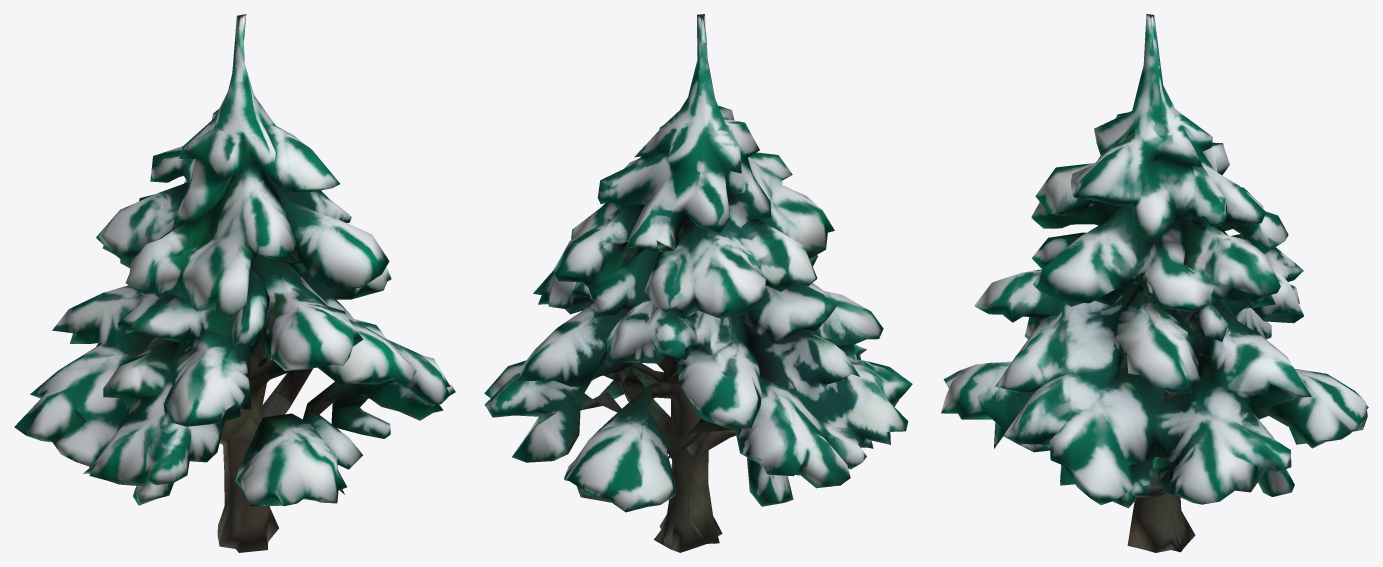
The model's file is snowpine_russia.glb.
The picture shows the model from 3 angles, left to right: view 1: azimuth 30°, elevation 25°; view 2: azimuth 150°, elevation 25°; view 3: azimuth 270°, elevation 25°; orthographic projection.
Size of the model in its own units: 1.46 by 2 by 1.48.
Materials: 1 (1 with a texture image).
